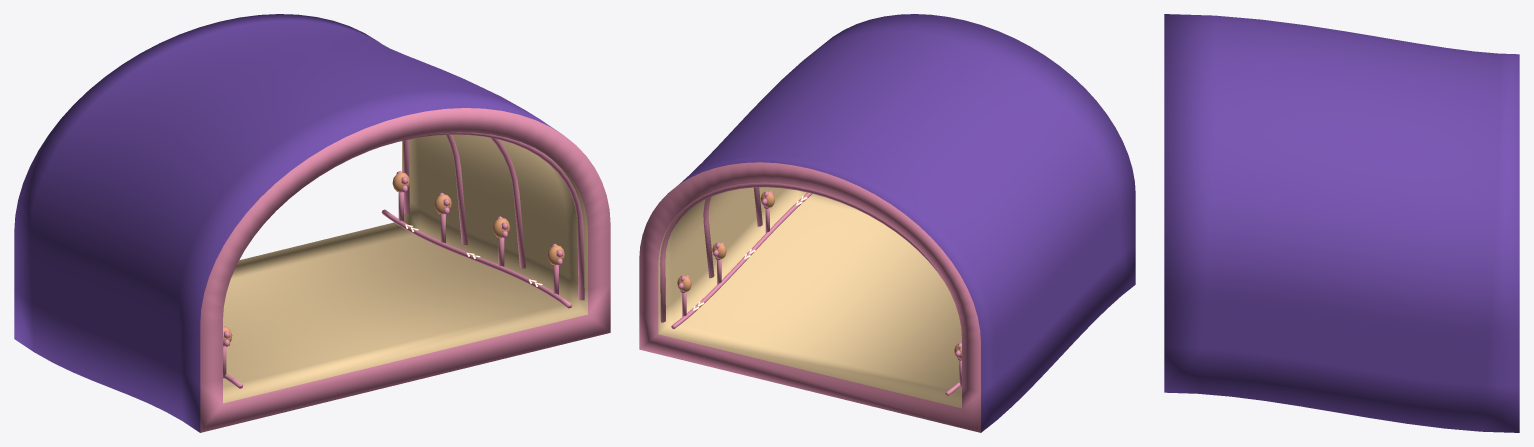
Rendered from grade_down.glb.
3 views of the same model, side by side, from view 1: azimuth 30°, elevation 25°; view 2: azimuth 150°, elevation 25°; view 3: azimuth 270°, elevation 25° (orthographic). The views are drawn at different scales.
Parts seen in each view (by area): view 1: TunnelGeometry; view 2: TunnelGeometry; view 3: TunnelGeometry.
Part boxes in pixels (box(x1,y1,x2,y2)): TunnelGeometry: box(14, 14, 610, 432); TunnelGeometry: box(639, 14, 1135, 432); TunnelGeometry: box(1164, 14, 1519, 432).
Size of the model in its own units: 15.3 by 11.02 by 12.
Materials: 5 (2 with a texture image).
